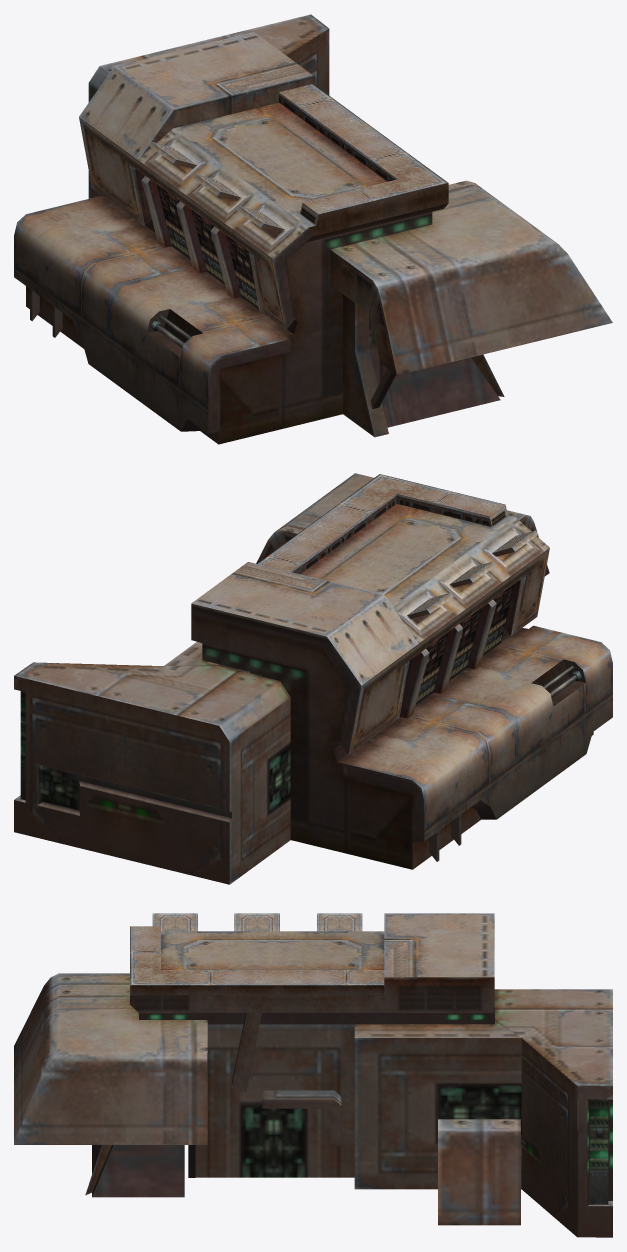
The model's file is yw_leinabao_jianzhu01.FBX.
The picture shows the model from 3 angles, top to bottom: view 1: azimuth 30°, elevation 25°; view 2: azimuth 150°, elevation 25°; view 3: azimuth 270°, elevation 25°; orthographic projection. The views are drawn at different scales.
Parts seen in each view (by area): view 1: yw_leinabao_jianzhu01; view 2: yw_leinabao_jianzhu01; view 3: yw_leinabao_jianzhu01.
Boxes of the visible parts, box(x1,y1,x2,y2) form: yw_leinabao_jianzhu01: box(14, 14, 612, 444); yw_leinabao_jianzhu01: box(14, 473, 612, 884); yw_leinabao_jianzhu01: box(14, 913, 612, 1237).
Size of the model in its own units: 1620 by 941 by 2487.
